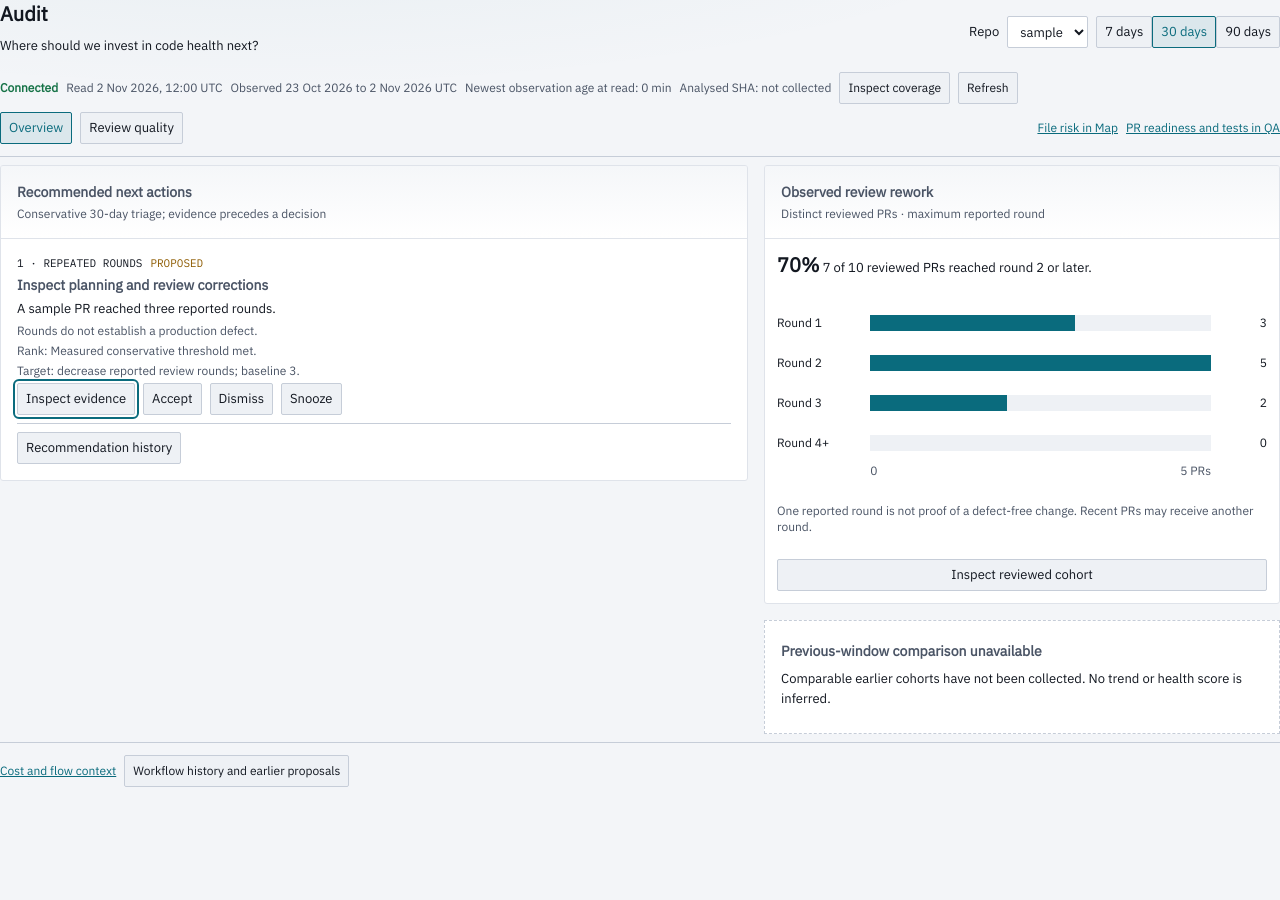
Test: pages evidence at 50 rows and restores focus when closed
Check: the heading "Inspect planning and review corrections" is shown, box left=17, top=276, right=268, bottom=294
Step 1. Click the button "Inspect evidence" → (76, 399), box left=17, top=383, right=135, bottom=415
(page scrolled)
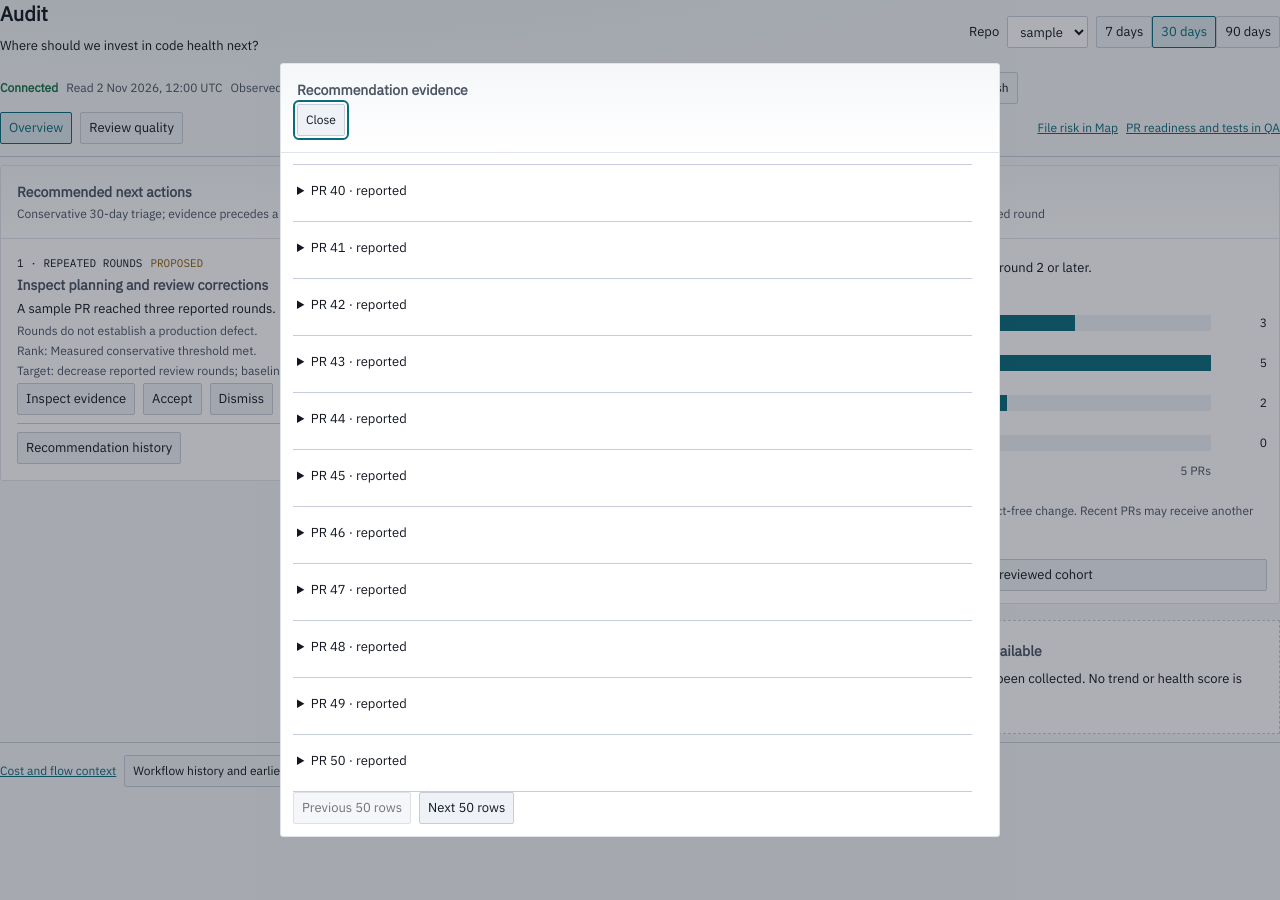
Step 2. Click the button "Next 50 rows" → (467, 808), box left=419, top=792, right=514, bottom=824
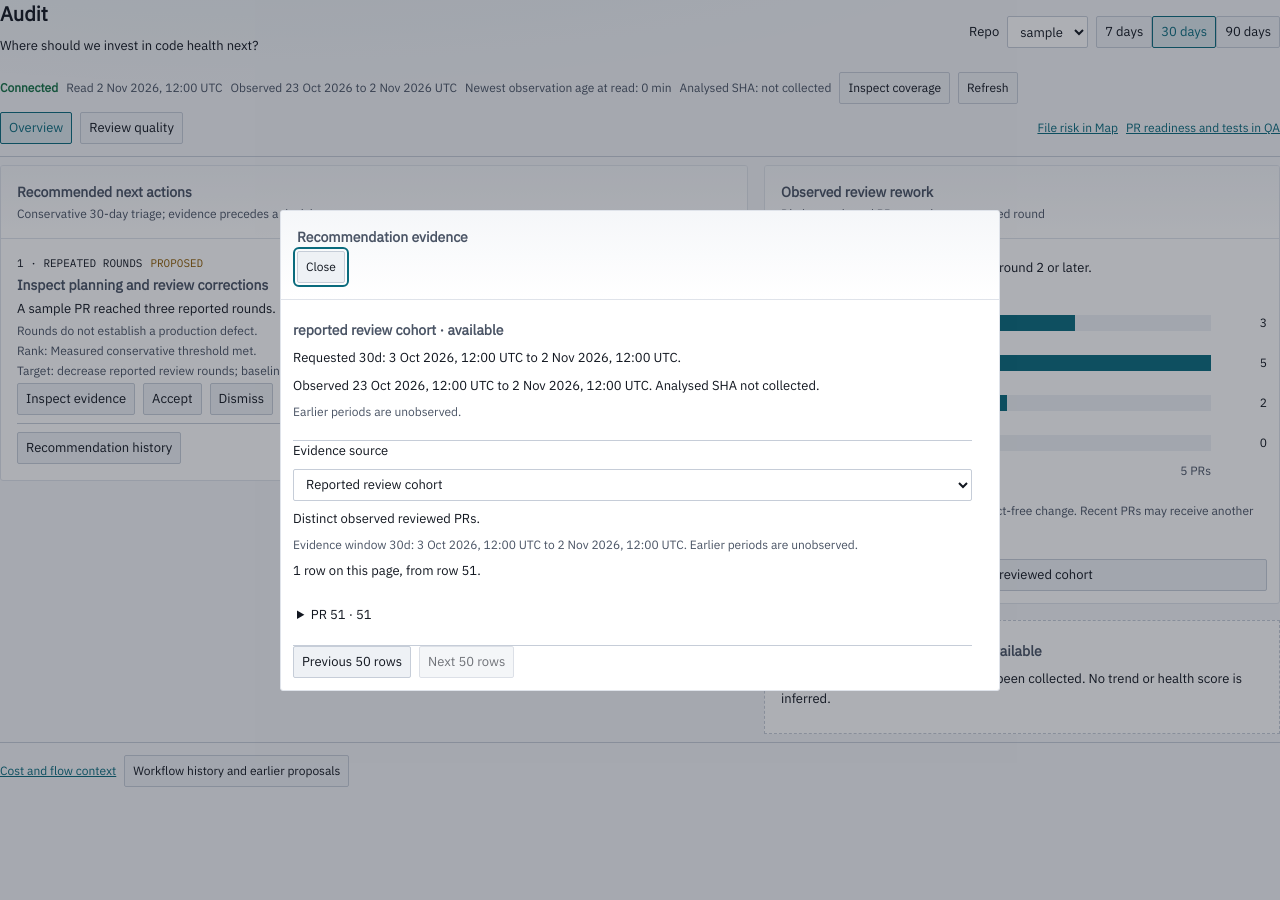
Check: the text "1 row on this page, from row 51." is shown, box left=293, top=562, right=481, bottom=578
Step 3. Press Escape in the dialog, box left=280, top=210, right=1000, bottom=690
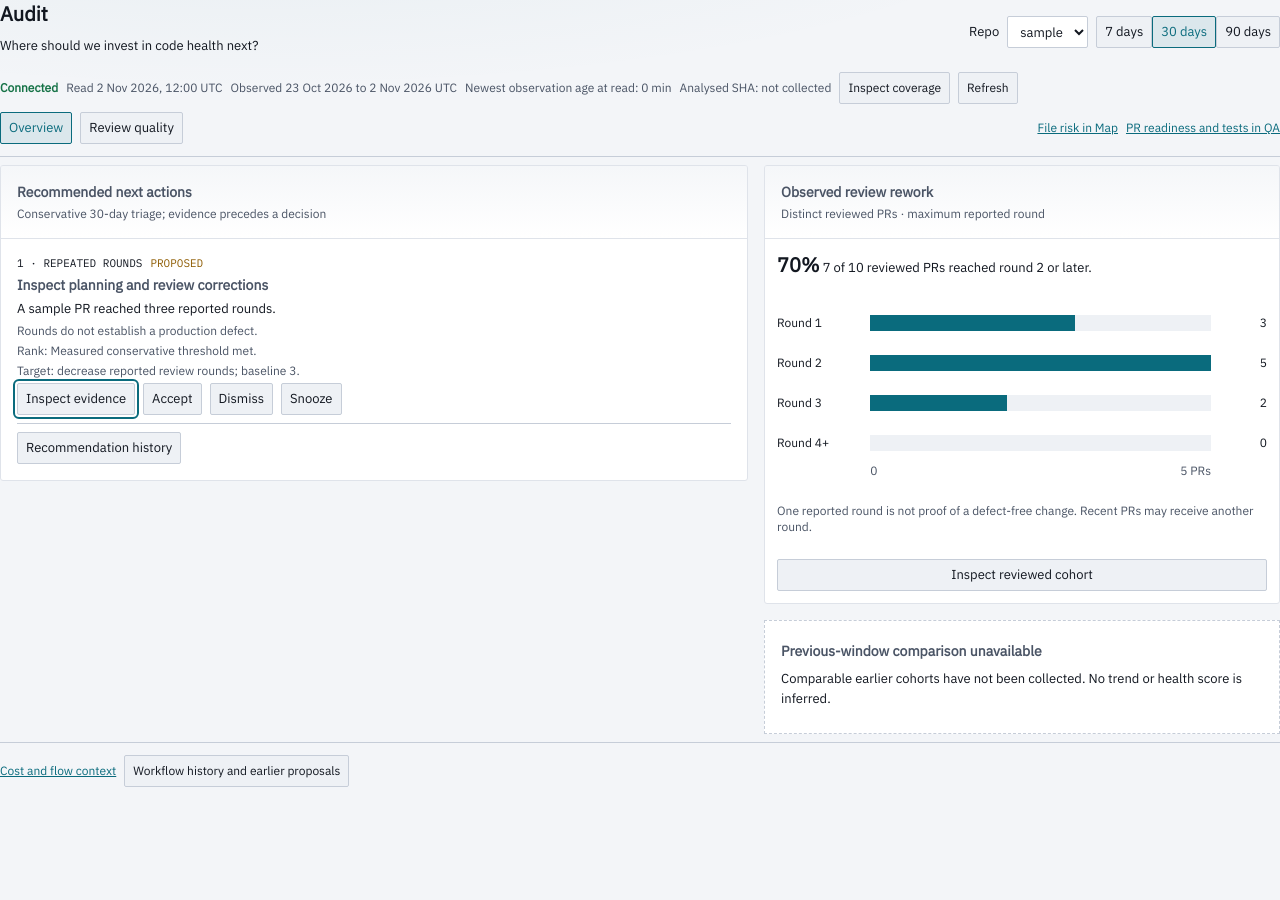
Check: the dialog is gone
